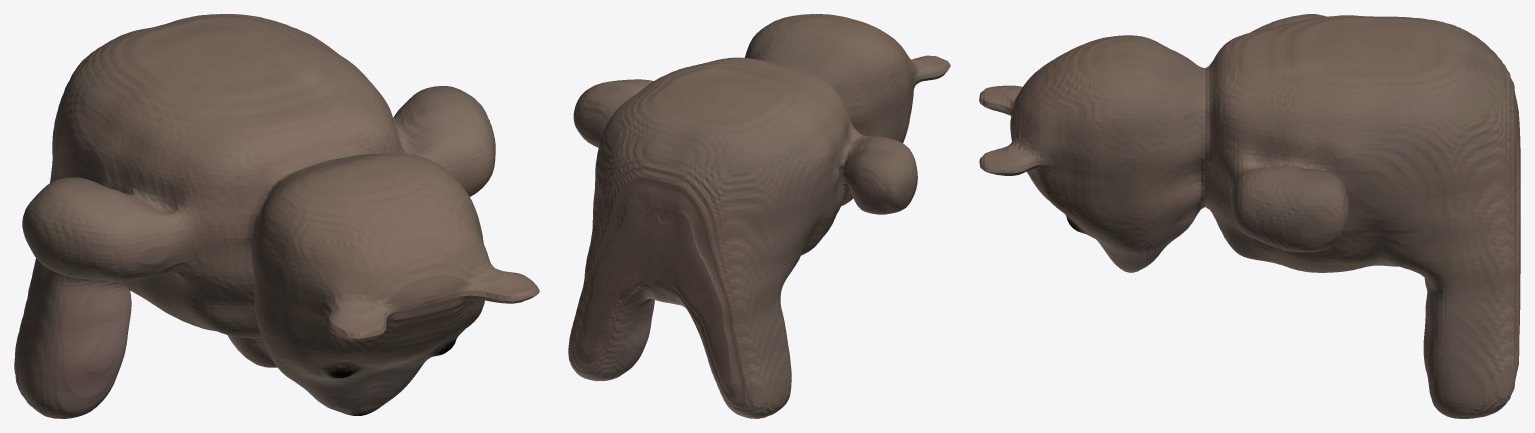
File: a_bear_source.glb
3 renders of one model, left to right at view 1: azimuth 30°, elevation 25°; view 2: azimuth 150°, elevation 25°; view 3: azimuth 270°, elevation 25°, orthographic. The views are drawn at different scales.
Parts seen in each view (by area): view 1: 0.ply; view 2: 0.ply; view 3: 0.ply.
Part boxes in pixels (box(x1,y1,x2,y2)): 0.ply: box(14, 14, 539, 418); 0.ply: box(568, 14, 950, 418); 0.ply: box(979, 14, 1520, 418).
Bounding box in the file's own units: 1.66 × 1.31 × 1.98.
